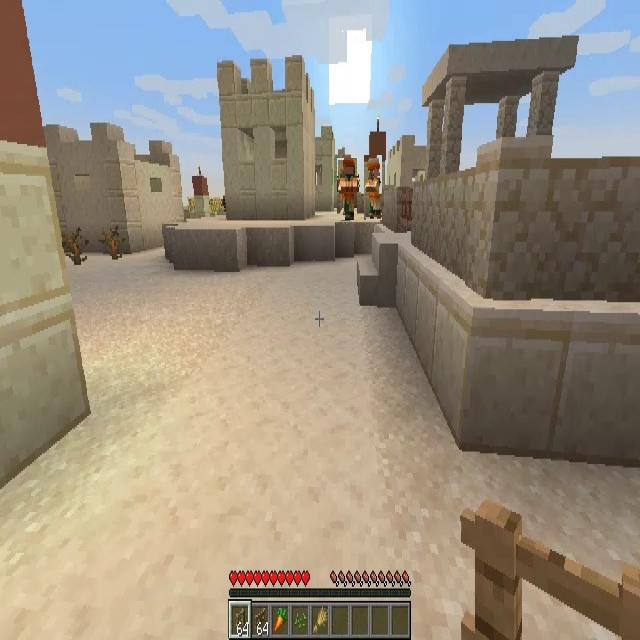people: (338, 158, 358, 220), (364, 155, 382, 220)
